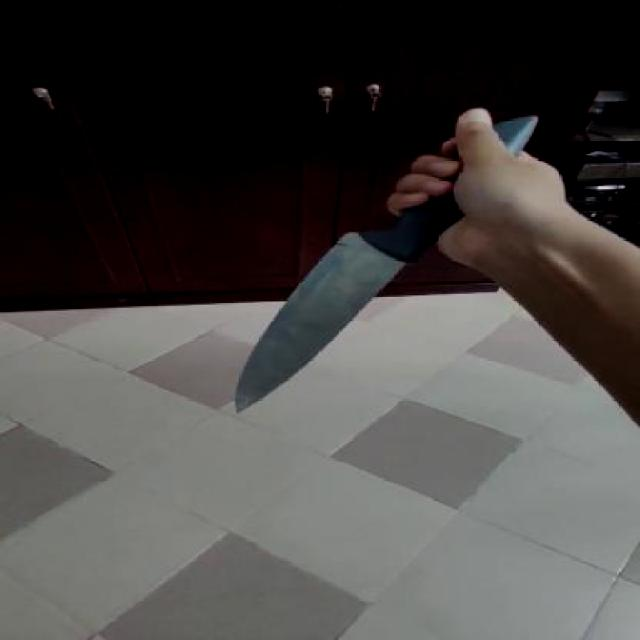knife: (192, 234, 422, 412)
